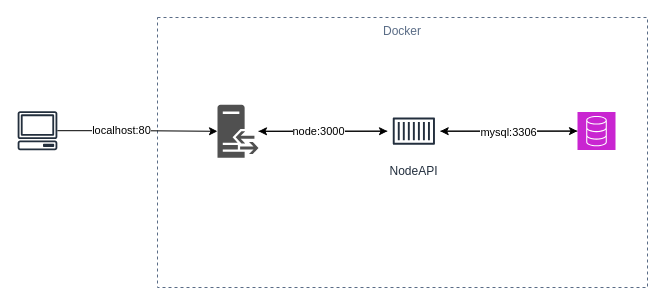
Image size: 665x305. Some labels were removed from this diagram. Each missing label, with the box of its shape:
MySQL: (576, 111, 616, 150)
NGINX: (217, 104, 258, 157)
